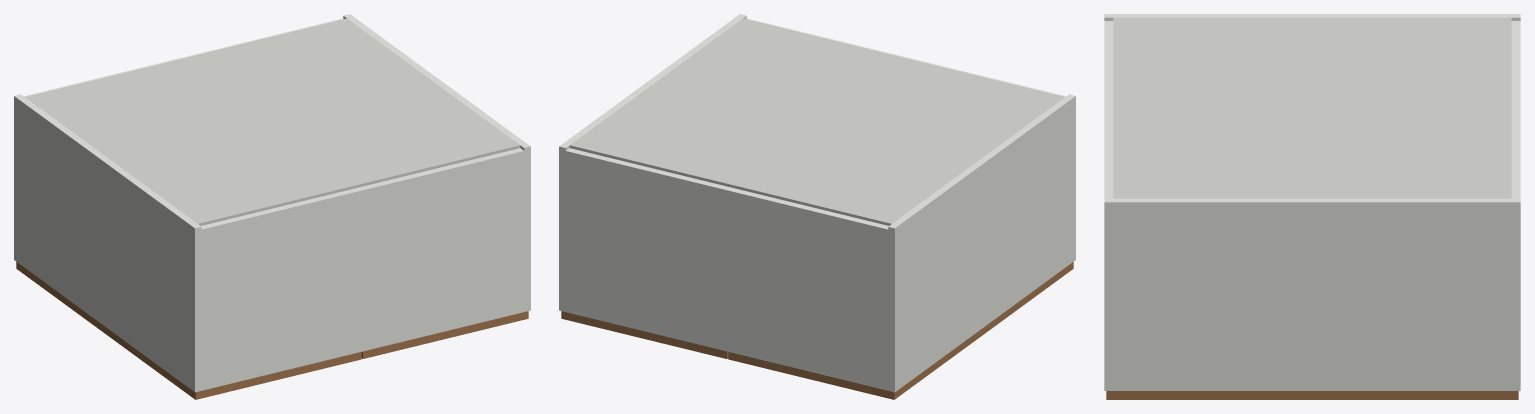
Rendered from M06_wall_cabinet.obj.
The picture shows the model from 3 angles, left to right: view 1: azimuth 30°, elevation 25°; view 2: azimuth 150°, elevation 25°; view 3: azimuth 270°, elevation 25°; orthographic projection. The views are drawn at different scales.
Visible parts, largest first — view 1: M06_wall_cabinet_Fundo, M06_wall_cabinet_Tampo_Interno, M06_wall_cabinet_Lateral_Esquerda, M06_wall_cabinet_Porta_1, M06_wall_cabinet_Lateral_Direita, M06_wall_cabinet_Porta_2, M06_wall_cabinet_Base; view 2: M06_wall_cabinet_Fundo, M06_wall_cabinet_Base, M06_wall_cabinet_Lateral_Esquerda, M06_wall_cabinet_Porta_1, M06_wall_cabinet_Lateral_Direita, M06_wall_cabinet_Porta_2, M06_wall_cabinet_Tampo_Interno; view 3: M06_wall_cabinet_Lateral_Direita, M06_wall_cabinet_Fundo, M06_wall_cabinet_Porta_2, M06_wall_cabinet_Base, M06_wall_cabinet_Tampo_Interno, M06_wall_cabinet_Lateral_Esquerda.
Part boxes in pixels (box(x1,y1,x2,y2)): M06_wall_cabinet_Fundo: box(25, 18, 520, 225); M06_wall_cabinet_Tampo_Interno: box(201, 148, 524, 390); M06_wall_cabinet_Lateral_Esquerda: box(14, 94, 201, 392); M06_wall_cabinet_Porta_1: box(16, 262, 361, 399); M06_wall_cabinet_Lateral_Direita: box(343, 14, 530, 311); M06_wall_cabinet_Porta_2: box(361, 311, 528, 358); M06_wall_cabinet_Base: box(24, 18, 343, 96); M06_wall_cabinet_Fundo: box(569, 18, 1064, 225); M06_wall_cabinet_Base: box(565, 148, 888, 390); M06_wall_cabinet_Lateral_Esquerda: box(888, 94, 1075, 392); M06_wall_cabinet_Porta_1: box(728, 262, 1073, 399); M06_wall_cabinet_Lateral_Direita: box(559, 14, 746, 311); M06_wall_cabinet_Porta_2: box(561, 311, 728, 358); M06_wall_cabinet_Tampo_Interno: box(746, 18, 1065, 96); M06_wall_cabinet_Lateral_Direita: box(1104, 198, 1520, 390); M06_wall_cabinet_Fundo: box(1113, 17, 1511, 198); M06_wall_cabinet_Porta_2: box(1106, 391, 1518, 399); M06_wall_cabinet_Base: box(1511, 21, 1520, 198); M06_wall_cabinet_Tampo_Interno: box(1104, 21, 1113, 198); M06_wall_cabinet_Lateral_Esquerda: box(1104, 14, 1520, 20).
Bounding box in the file's own units: 750 × 388 × 700.
